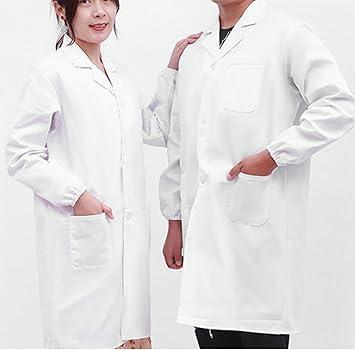Bata-Correcta: (159, 0, 354, 348), (6, 0, 151, 347)
